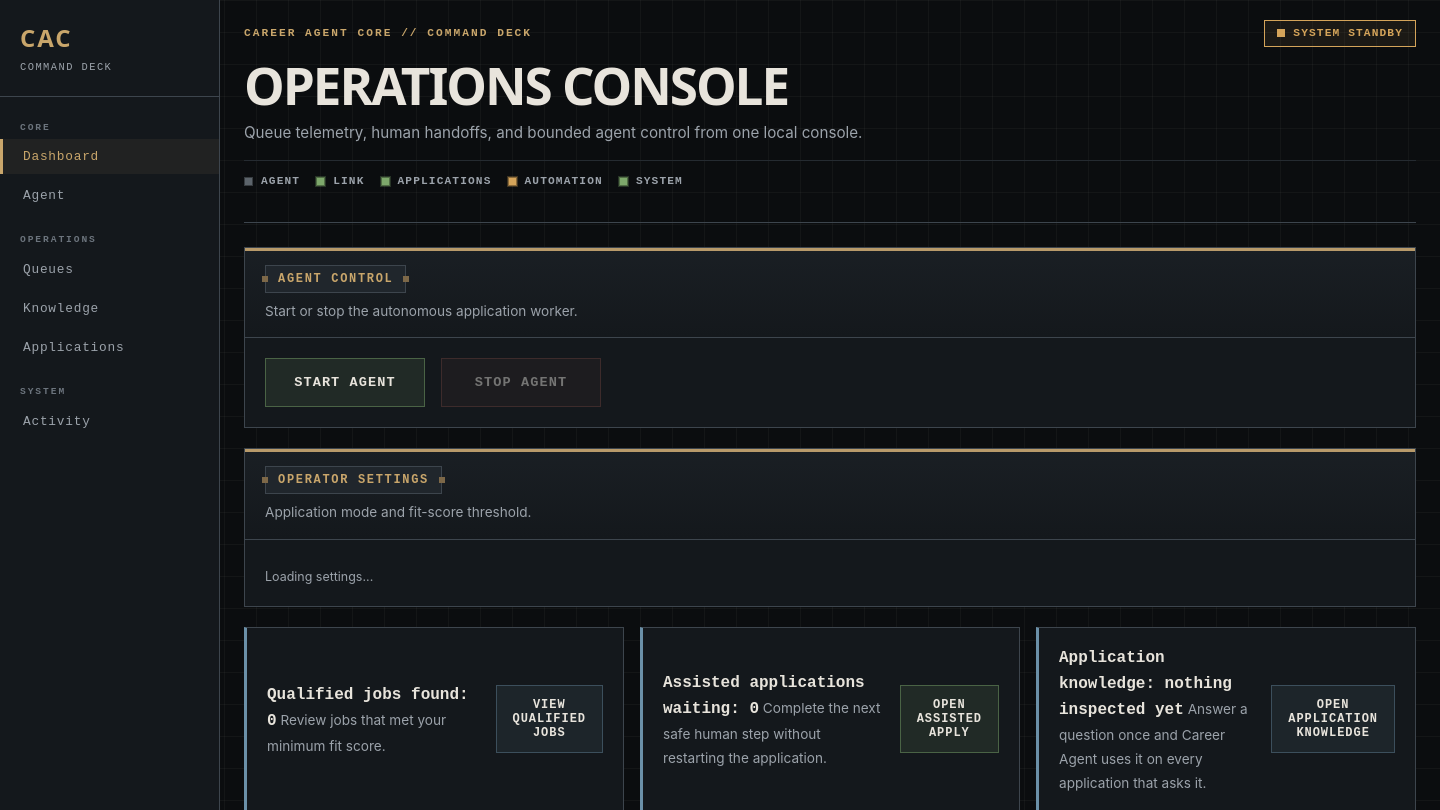
Assisted Apply workflow › shows a load error when the Assisted Apply queue endpoint fails
The image size is (1440, 810).
Click the button "Open Assisted Apply": (949, 719) [900,685,999,753]
(page scrolled)
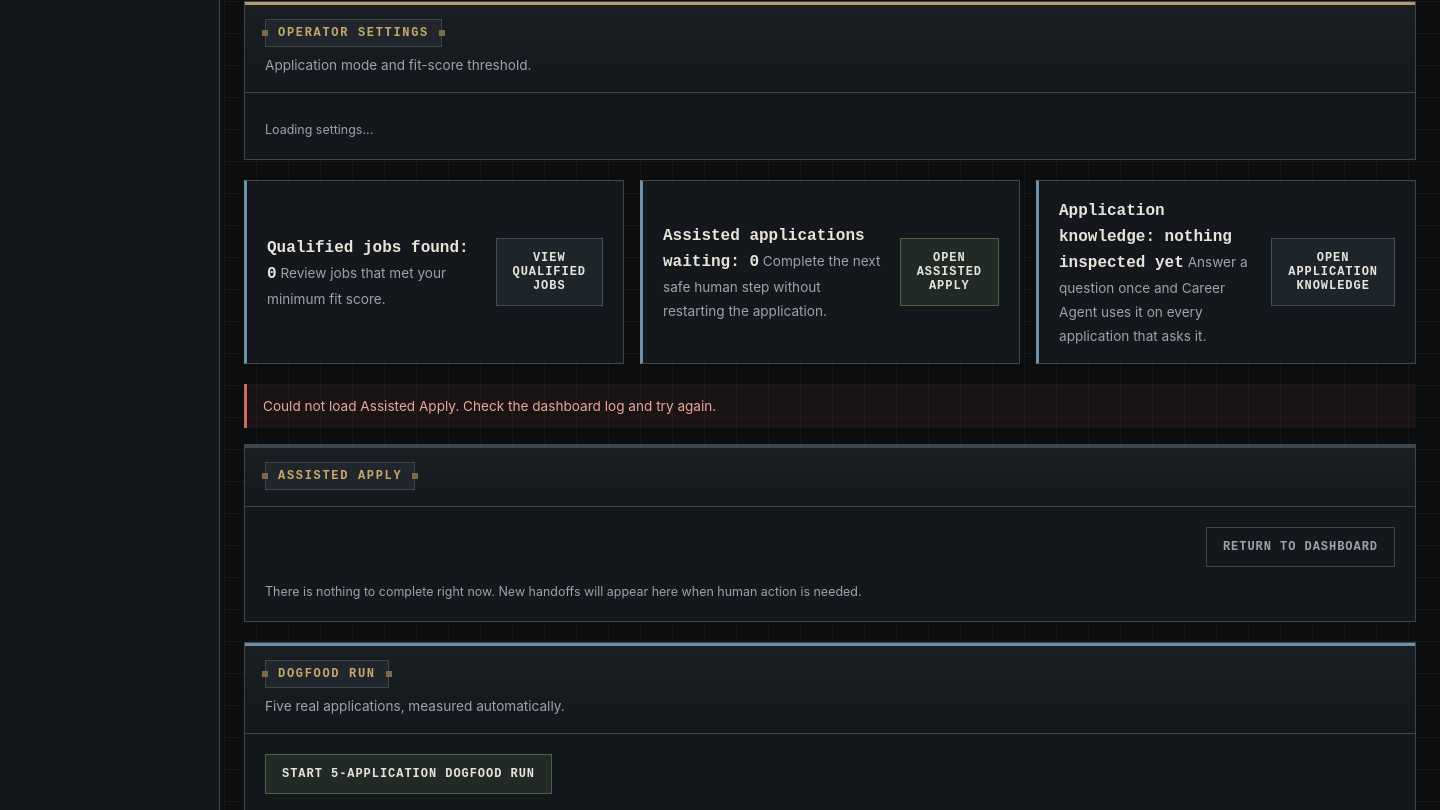
Check: the message shows "Could not load Assisted Apply", box [263,398,716,414]
